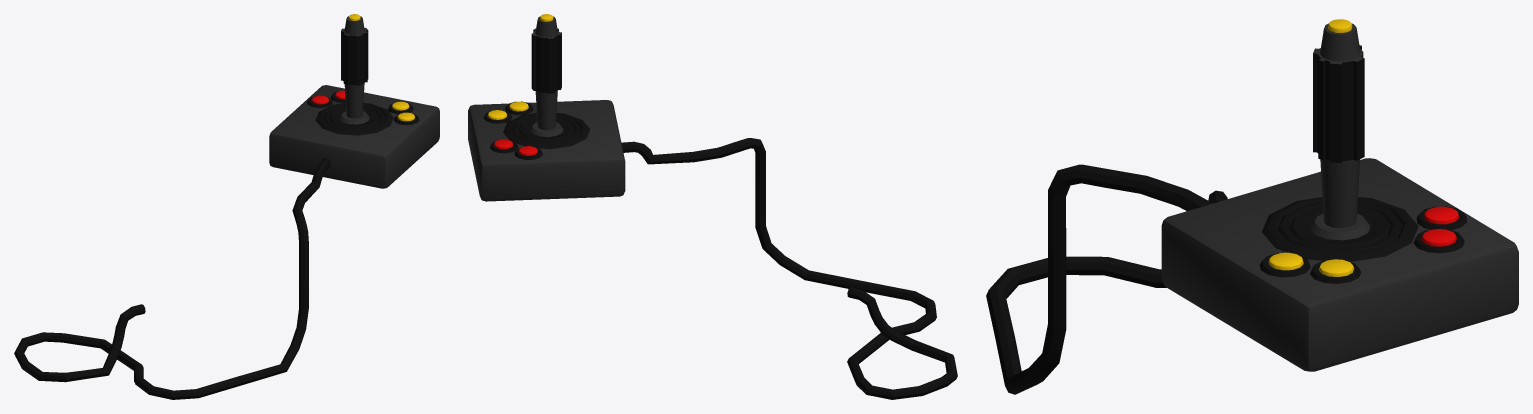
The model's file is GameConsoleController_01.glb.
3 renders of one model, left to right at view 1: azimuth 30°, elevation 25°; view 2: azimuth 150°, elevation 25°; view 3: azimuth 270°, elevation 25°, orthographic. The views are drawn at different scales.
Parts seen in each view (by area): view 1: Mesh_GameConsoleController_01; view 2: Mesh_GameConsoleController_01; view 3: Mesh_GameConsoleController_01.
Part boxes in pixels (x1,y1,x2,y2): Mesh_GameConsoleController_01: (14,14,439,399); Mesh_GameConsoleController_01: (468,14,957,399); Mesh_GameConsoleController_01: (986,19,1518,394).
Bounding box in the file's own units: 0.3736 × 0.2213 × 0.2028.
1 material, 1 textured.
